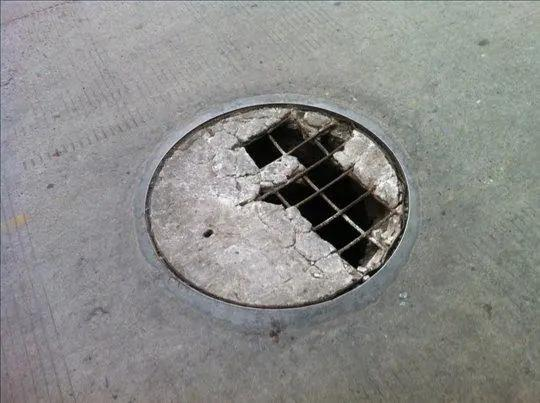wellcover: (130, 93, 424, 323)
